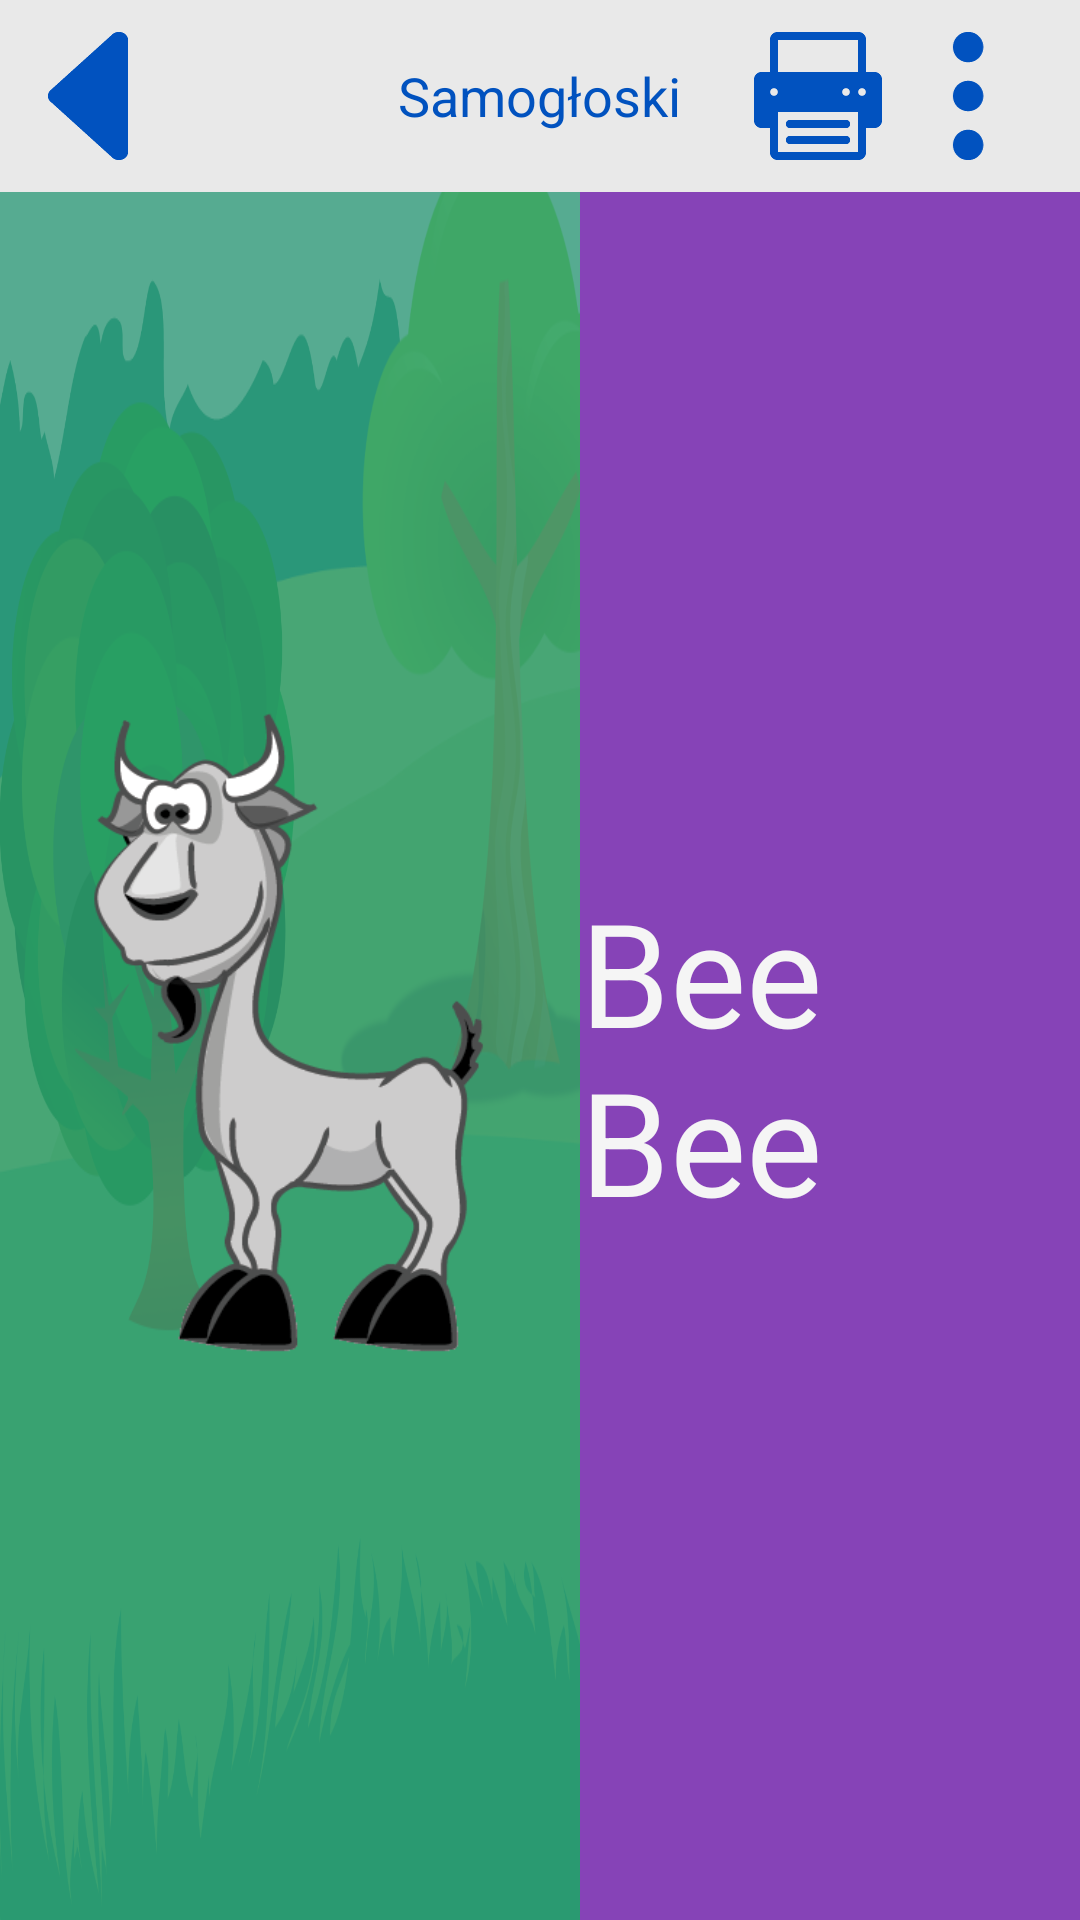

Where icons sit on this 1080×1920 app screen, as (x1, y1, x2, y2):
Przycisk powrotu: (48, 32, 128, 160)
Przycisk ustawień: (953, 32, 984, 160)
Przycisk wydruku: (754, 32, 882, 160)
